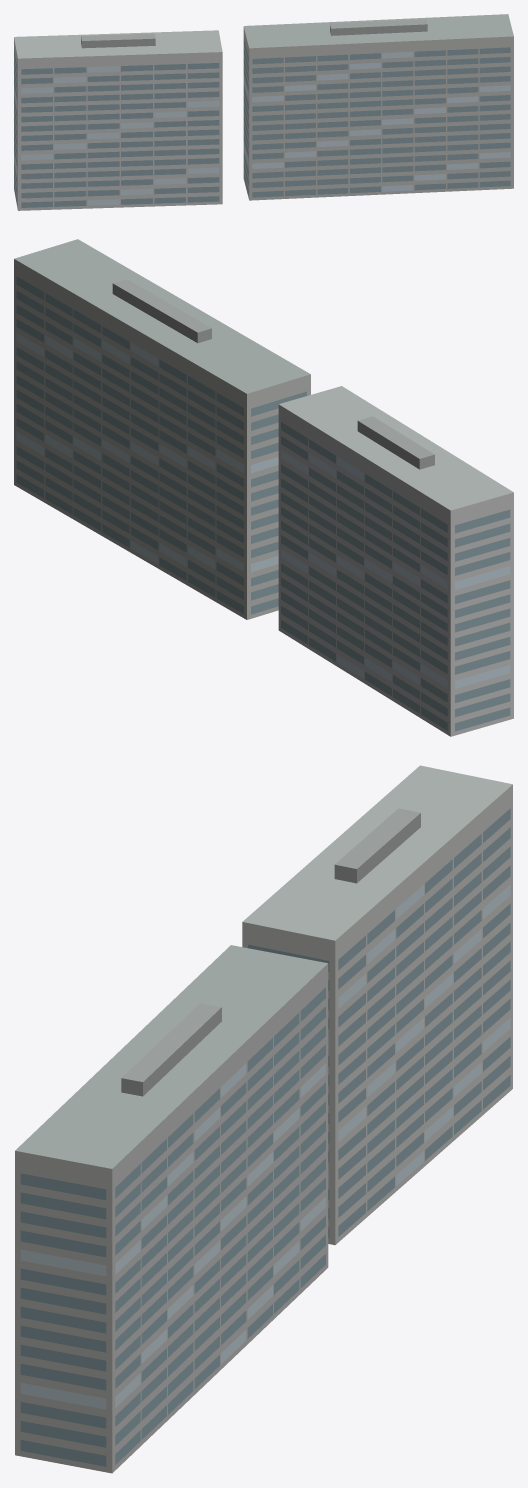
Rendered from apt-a15609401.glb.
3 views of the same model, one above another, from view 1: azimuth 30°, elevation 25°; view 2: azimuth 150°, elevation 25°; view 3: azimuth 270°, elevation 25° (orthographic). The views are drawn at different scales.
Parts seen in each view (by area): view 1: apt-a15609401; view 2: apt-a15609401; view 3: apt-a15609401.
Boxes of the visible parts, box(x1,y1,x2,y2) form: apt-a15609401: box(14, 14, 513, 210); apt-a15609401: box(14, 239, 513, 736); apt-a15609401: box(15, 765, 512, 1473).
Bounding box in the file's own units: 122 × 45 × 63.71.
